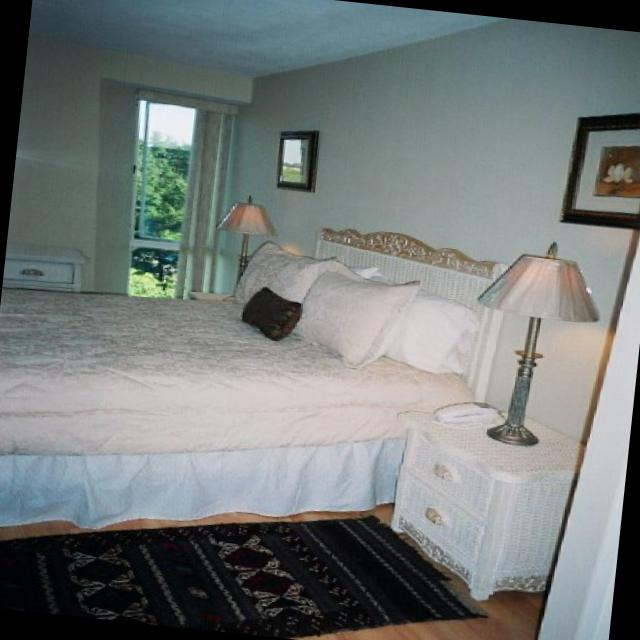2001: (129, 100, 232, 295)
bed frame: (0, 226, 506, 528)
carpet floor: (0, 514, 484, 637)
ceiling beam: (34, 0, 507, 78)
cushion occluded: (242, 286, 301, 342)
floor -X: (0, 294, 547, 640)
lamp crop: (483, 243, 600, 444), (219, 196, 278, 263)
night table: (7, 244, 89, 292)
night table crop: (390, 409, 589, 599)
picture crop: (277, 130, 317, 191)
picture of flag: (562, 113, 640, 229)
telephone booth: (441, 400, 500, 424)
wall clock: (219, 21, 640, 580), (5, 35, 251, 319), (539, 239, 640, 640)
